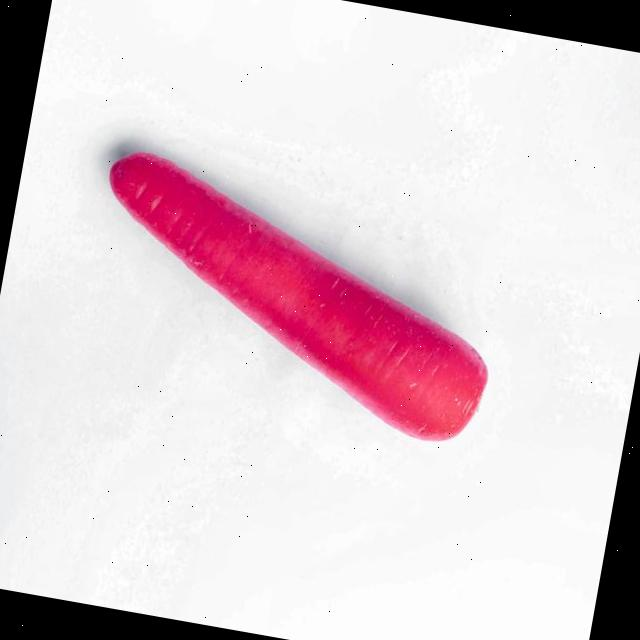carrot: (109, 151, 486, 439)
